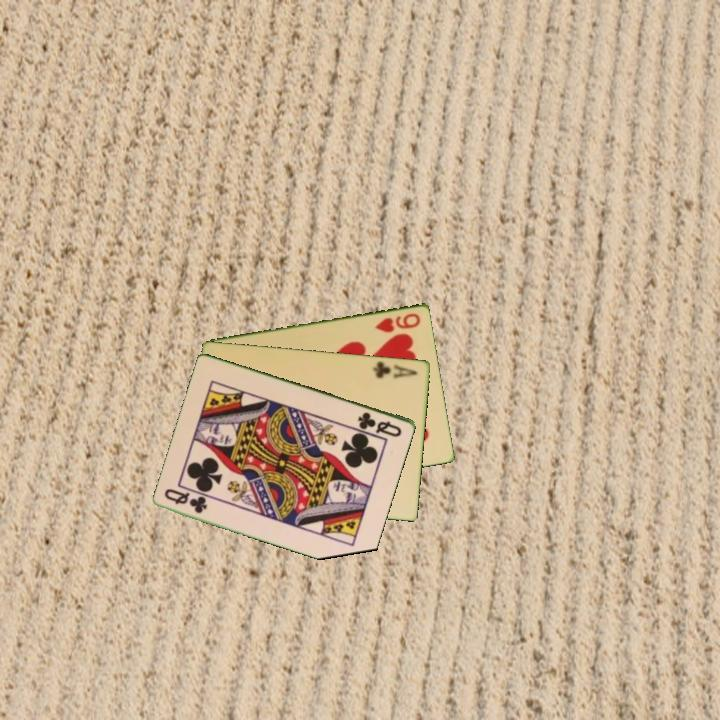9h: (372, 309, 423, 335)
Ac: (370, 357, 421, 381)
Qc: (354, 408, 405, 440), (161, 485, 211, 516)
